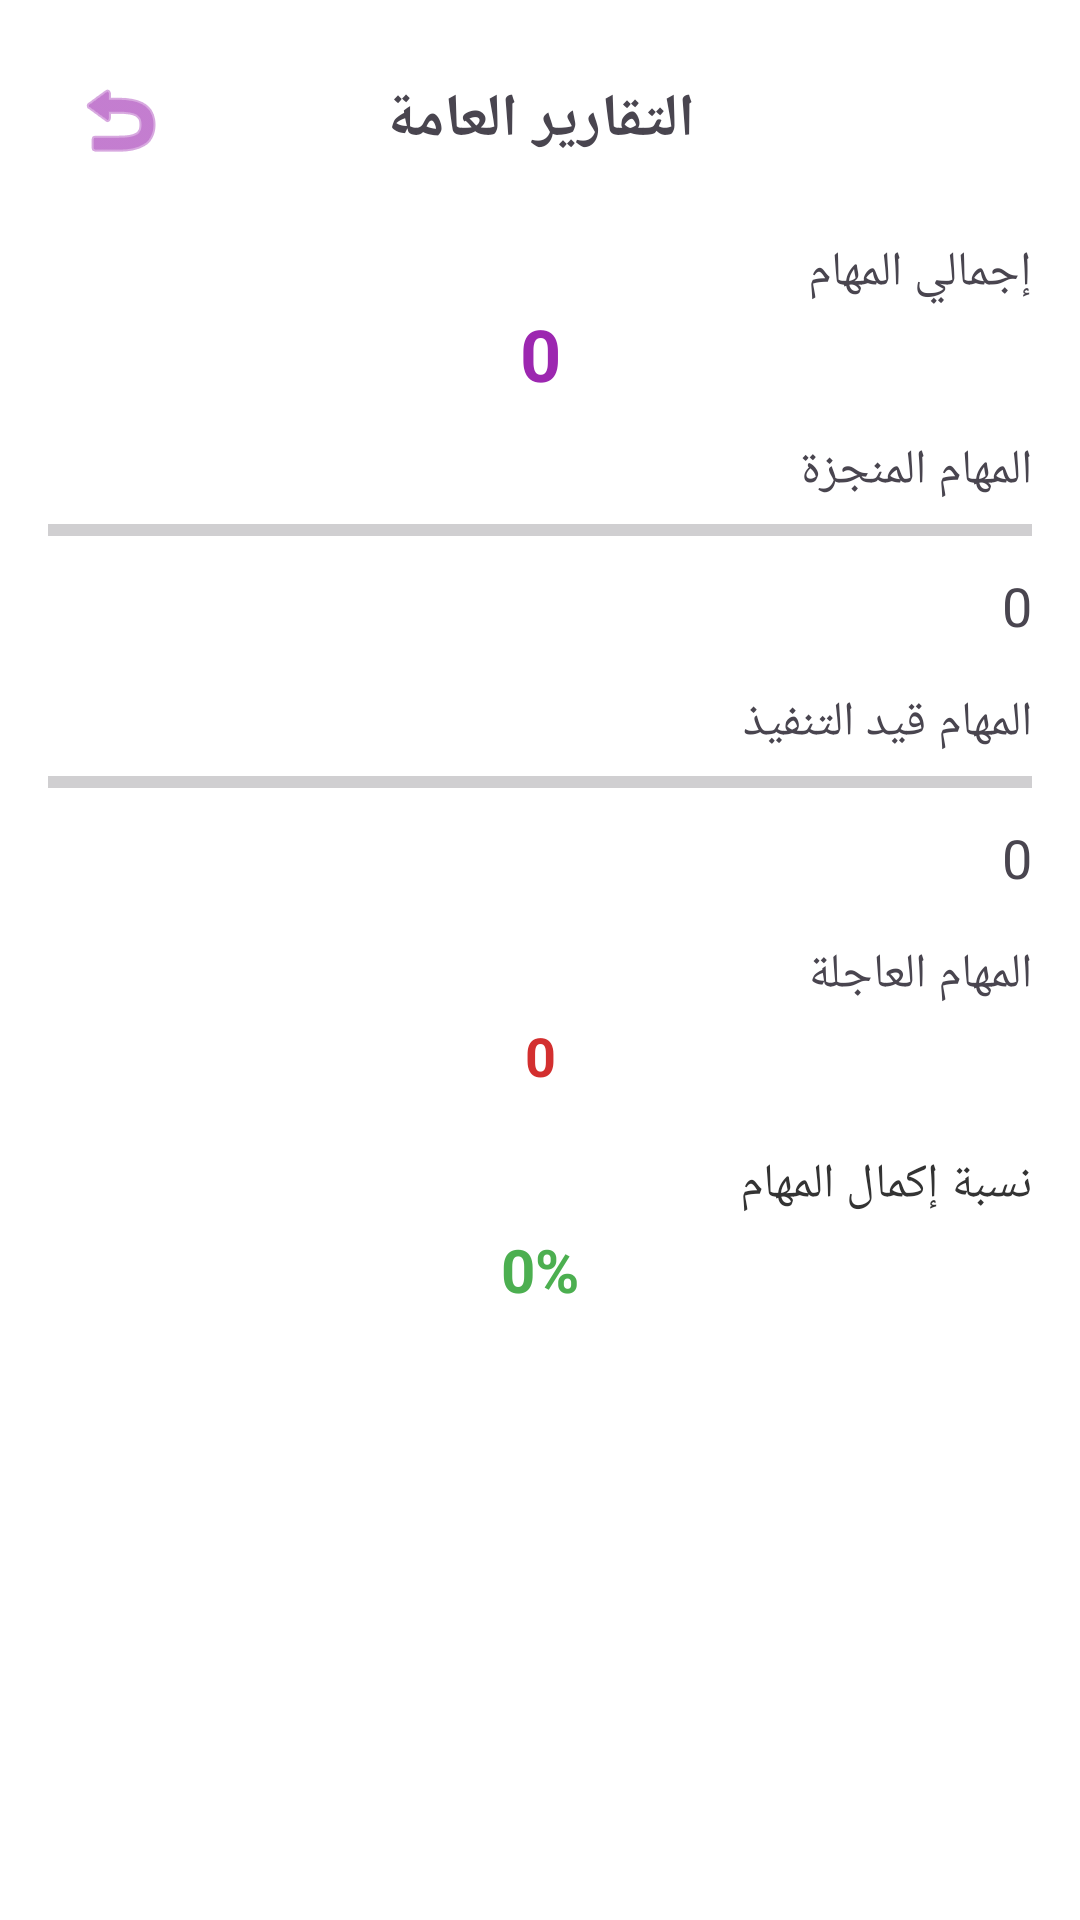

Icons on this 1080w x 1920h Android screen, each with its box as bbox(x1, y1, x2, y2):
رجوع: bbox(87, 89, 156, 152)
